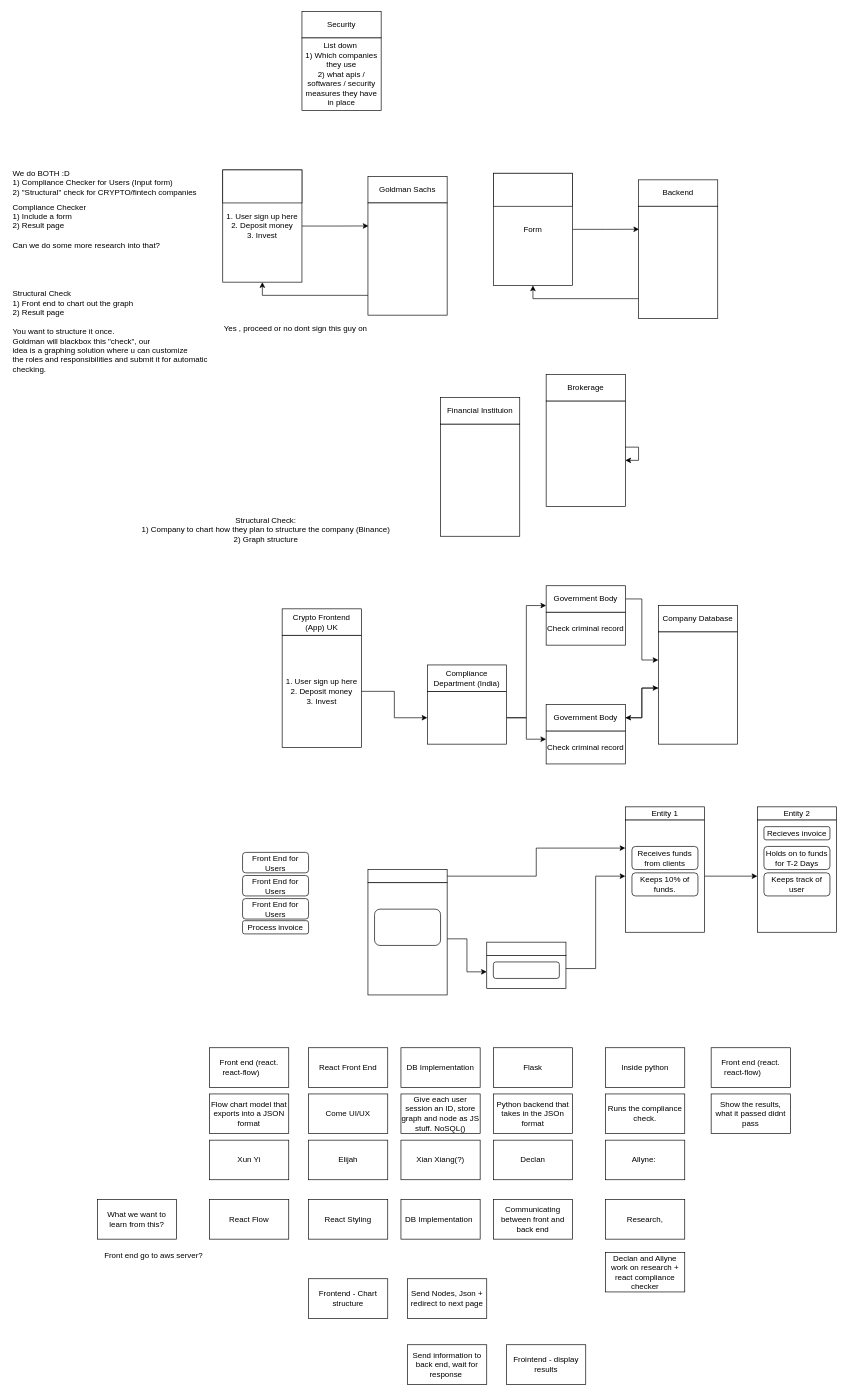
Image size: 848x1396. Some labels were removed from this diagram. The centre of each missing label's shape, as x and y in pixels:
"BaaS" goes at (526,948).
"Blackbox of Goldman Sachs" goes at (407,258).
"Crypto Frontend (App)" goes at (262,186).
"Crypto StartUp" goes at (407,876).
"Crypto takes USD and invests it into this few stocks" goes at (585,453).
"Faciliates fund transfer." goes at (526,969).
"Front end" goes at (533,189).
"If approved, sign up" goes at (698,687).
"Linked to Banks to recieve deposists" goes at (407,926).
"random. return yes page or a no page" goes at (678,262).
"The way they actually do back ground checks" goes at (480,479).
"User information Converts USD to USDT" goes at (467,717).
